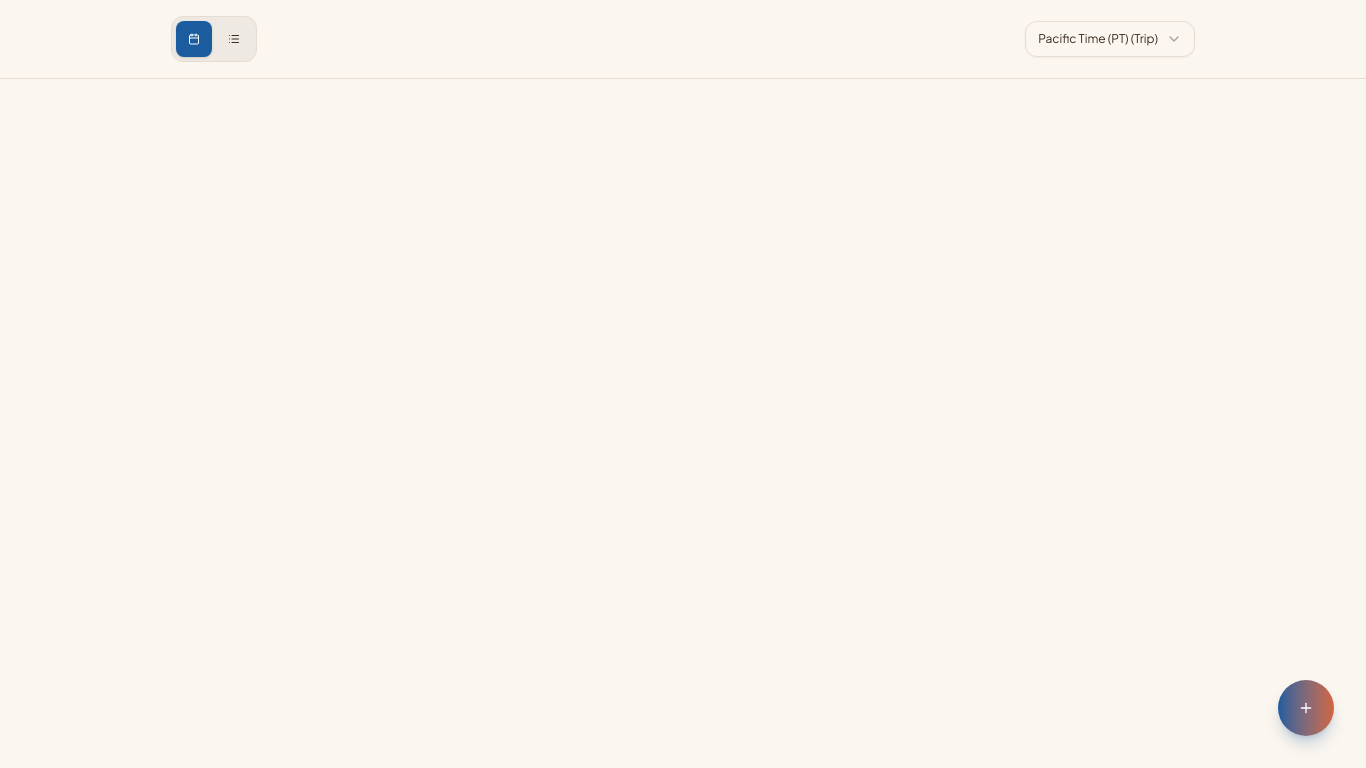
ItineraryHeader › FAB and action menu › shows Accommodation menu item when isOrganizer is true
The width and height of the screenshot is (1366, 768).
Click the button named "add to itinerary" at (1306, 708), box 1278,680 -> 1334,736
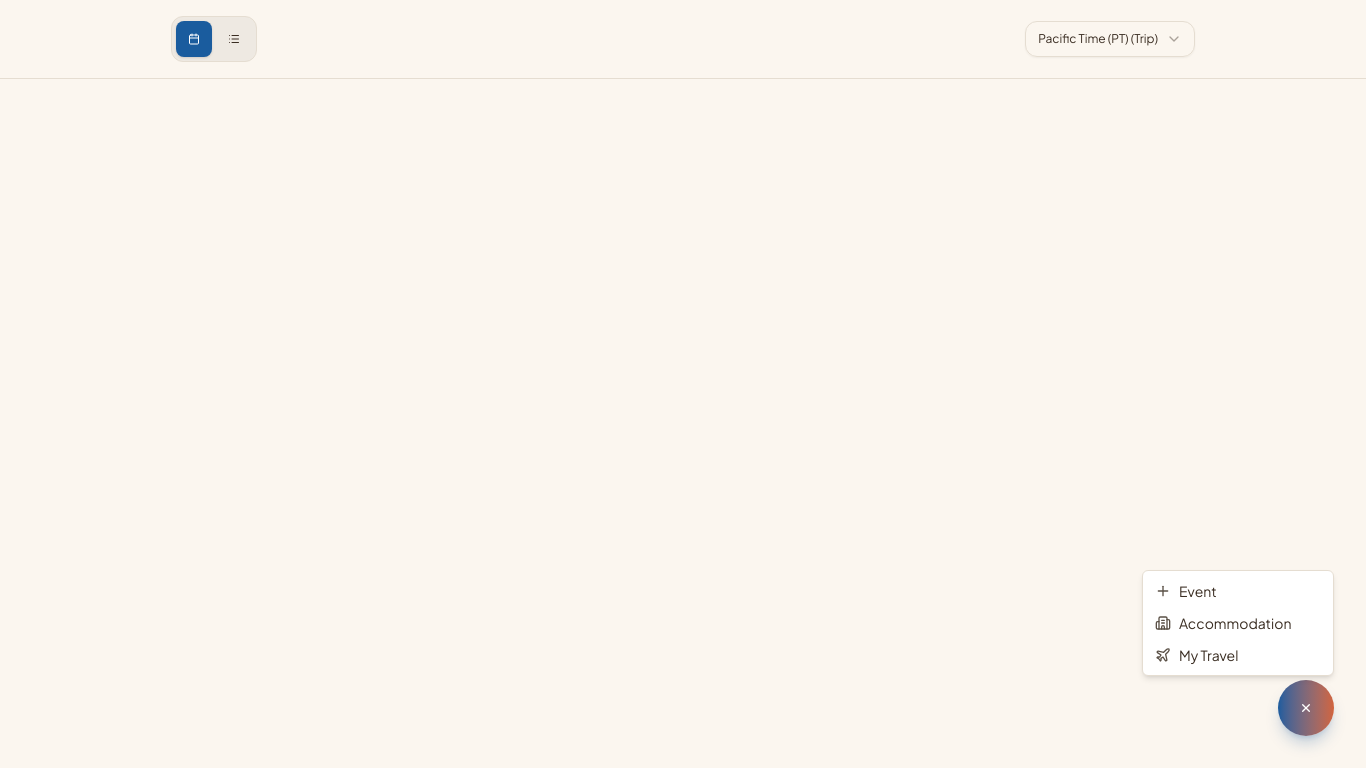
Check: the menu item "Accommodation" is shown, box 1155,614 -> 1292,632
